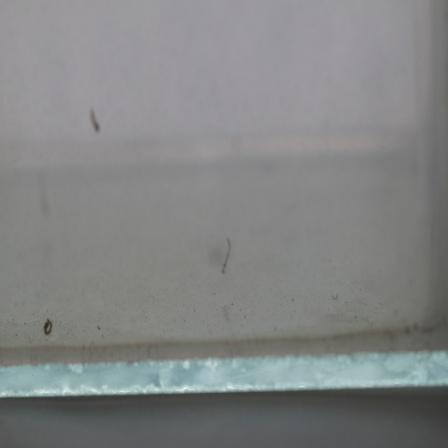Jentik-Nyamuk: (217, 233, 234, 276), (38, 312, 56, 340)
